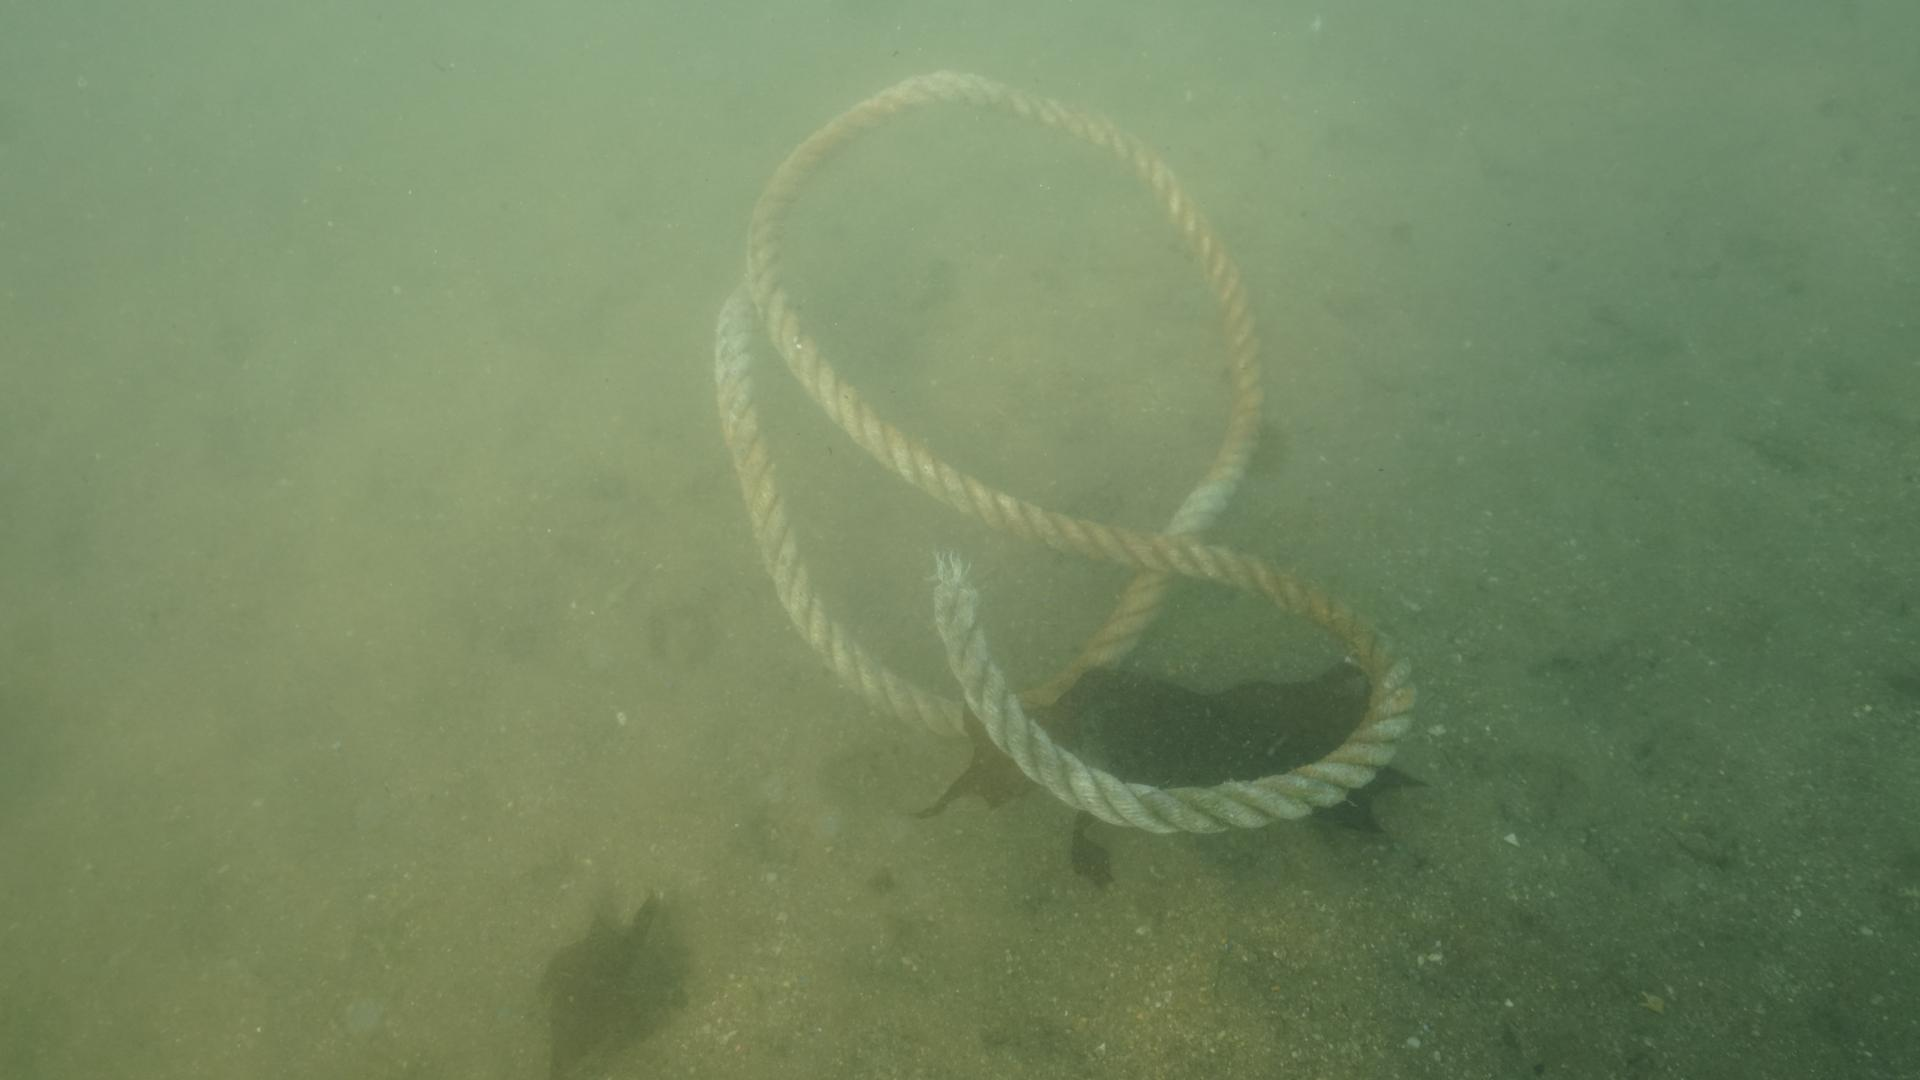bundle of ropes: (708, 62, 1424, 843)
